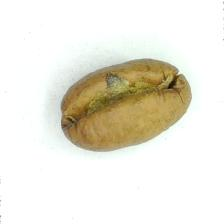NG: (79, 72, 158, 111)
